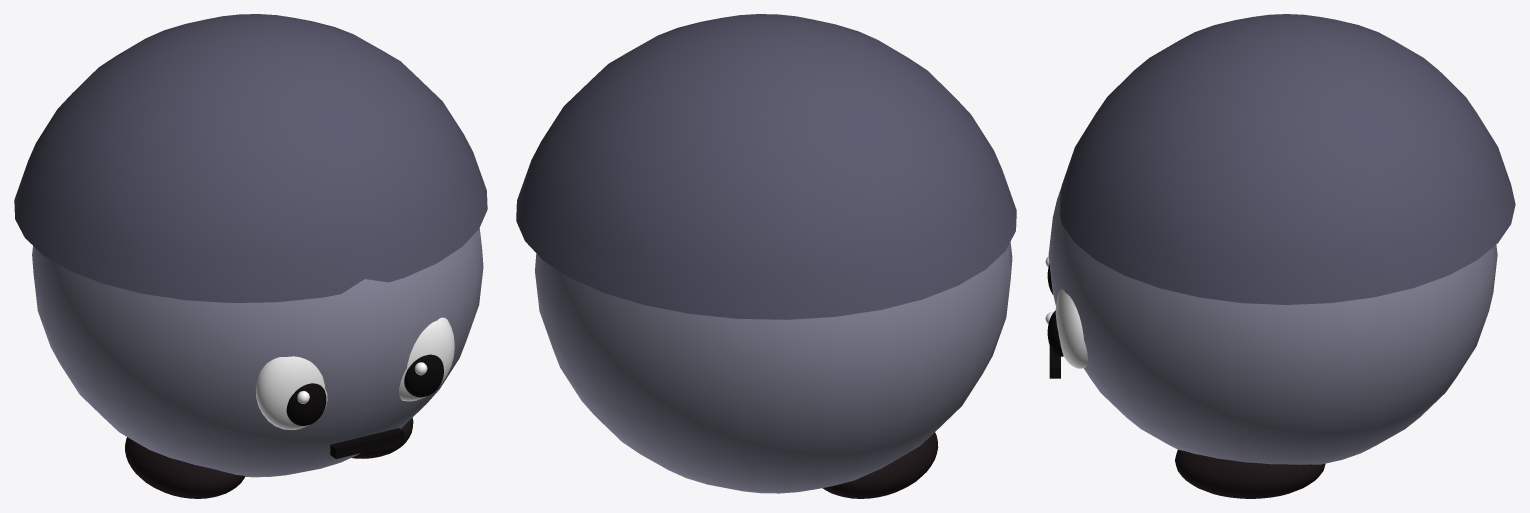
Rendered from lurker.glb.
3 views of the same model, side by side, from view 1: azimuth 30°, elevation 25°; view 2: azimuth 150°, elevation 25°; view 3: azimuth 270°, elevation 25° (orthographic). The views are drawn at different scales.
Visible parts, largest first — view 1: lurker_Body; view 2: lurker_Body; view 3: lurker_Body.
Boxes of the visible parts, x1=… form: lurker_Body: x1=14, y1=14, x2=487, y2=498; lurker_Body: x1=516, y1=14, x2=1016, y2=498; lurker_Body: x1=1045, y1=14, x2=1515, y2=498.
Bounding box in the file's own units: 2.12 × 2.03 × 2.09.
